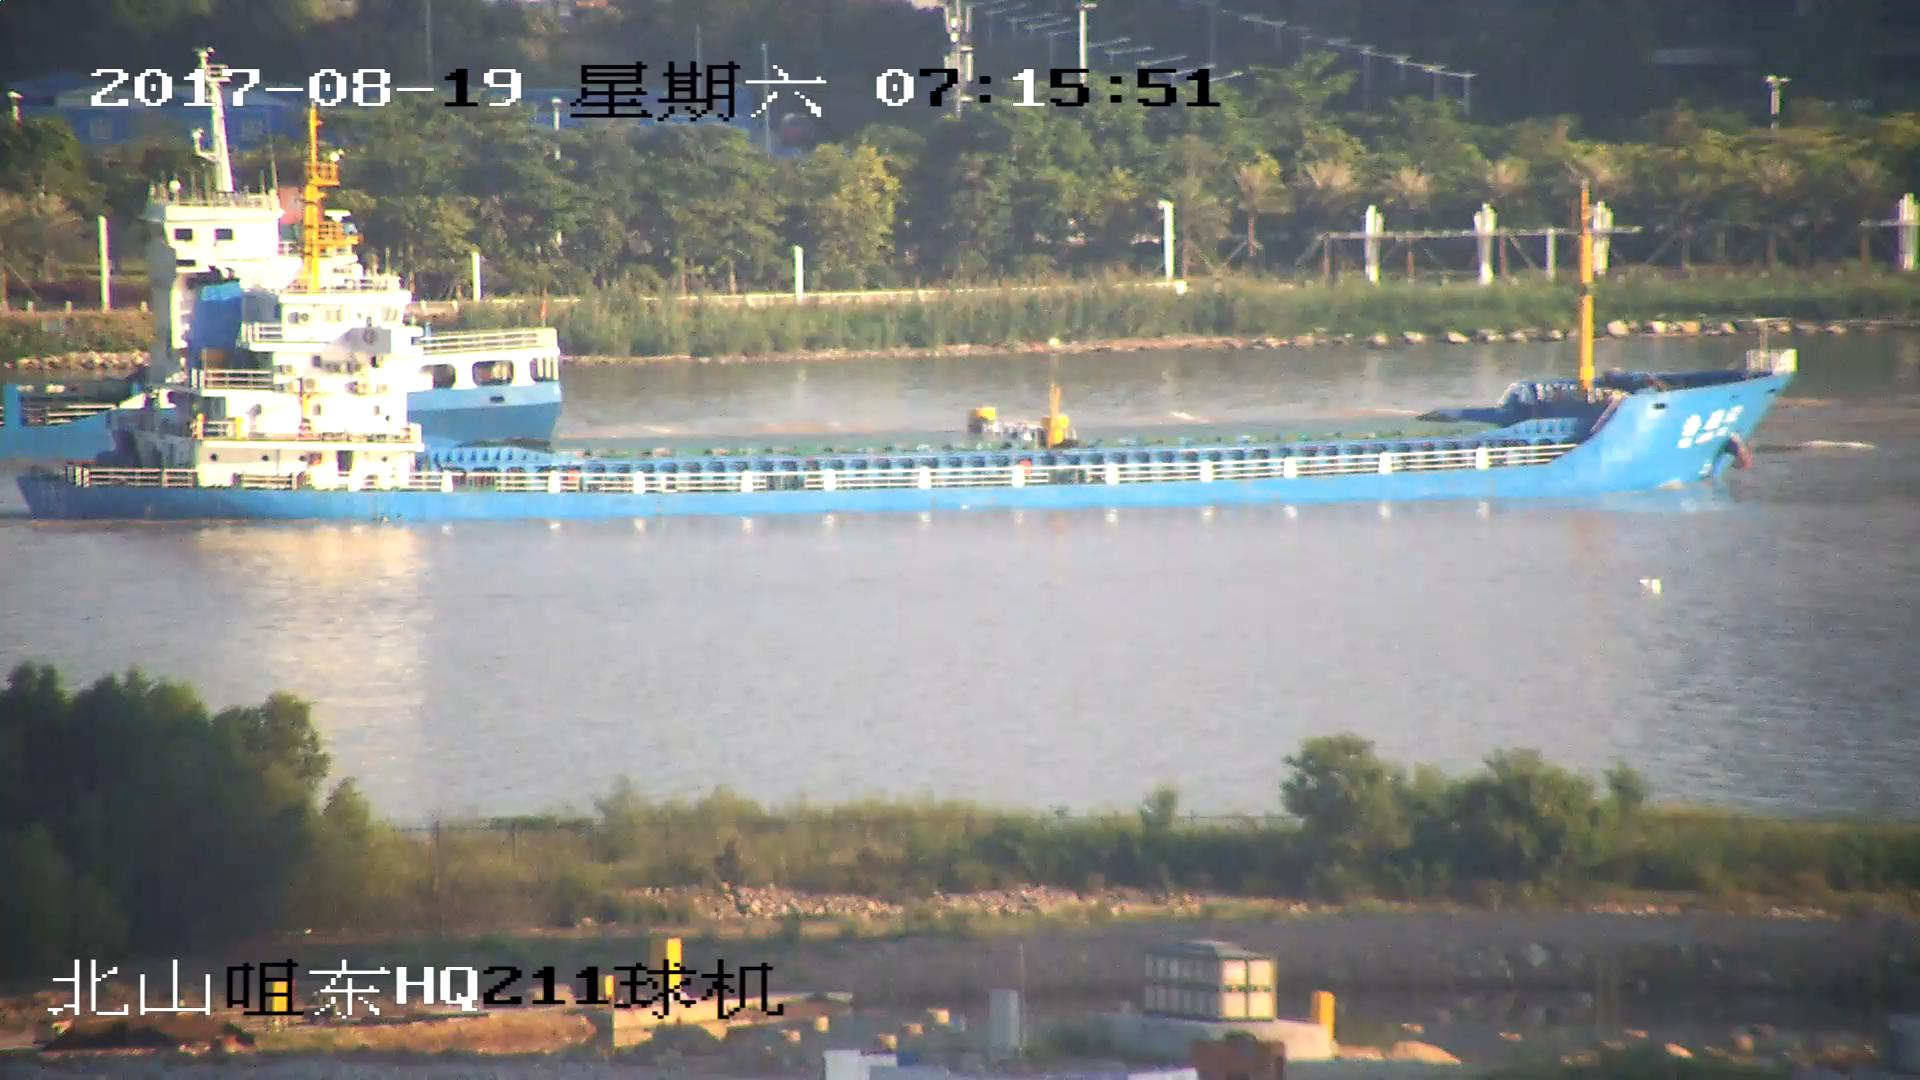general cargo ship: (20, 111, 1802, 521), (1, 118, 566, 460)
